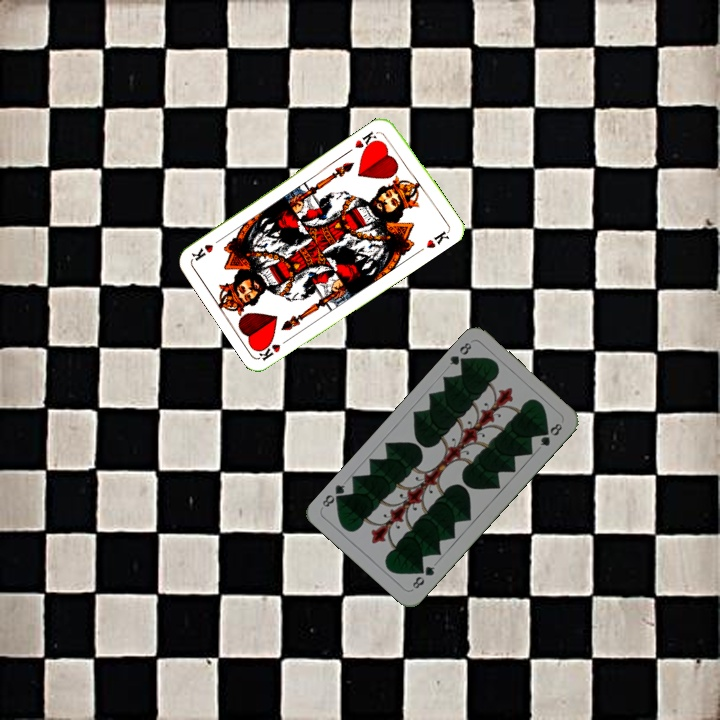G8: (446, 338, 474, 370), (408, 562, 437, 591)
HK: (255, 333, 293, 363), (351, 127, 382, 154)
